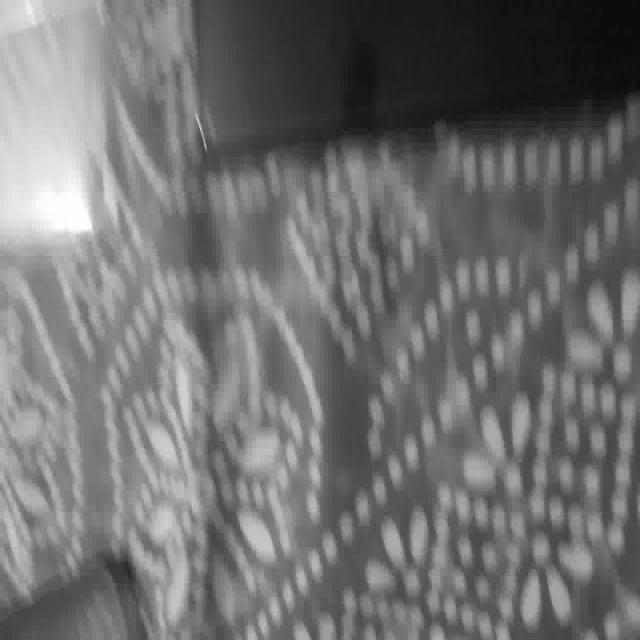fake: (188, 2, 640, 166)
